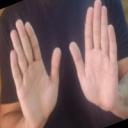hand: (8, 18, 62, 127), (68, 0, 119, 111)
